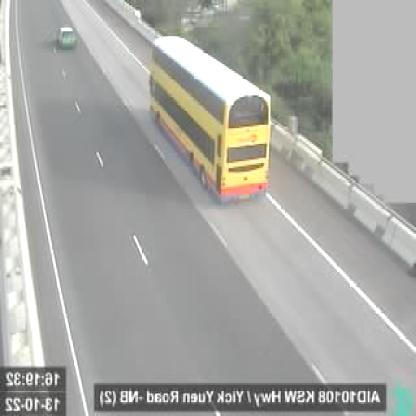Bus: (150, 35, 273, 206)
Car: (57, 26, 78, 50)
